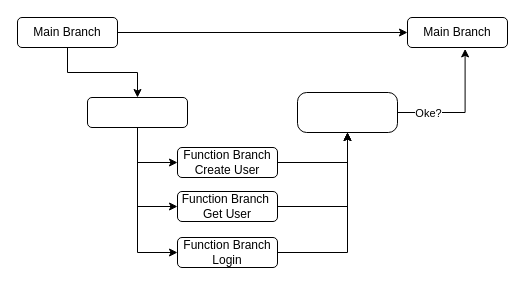
Some shapes in this 525 by 285 pixel diagram are drawn without their labels. The box of each missing label's shape, as (x1, y1, x2, y2) in pixels:
Check Development Branch: (296, 92, 398, 132)
Development Branch: (86, 96, 188, 128)
